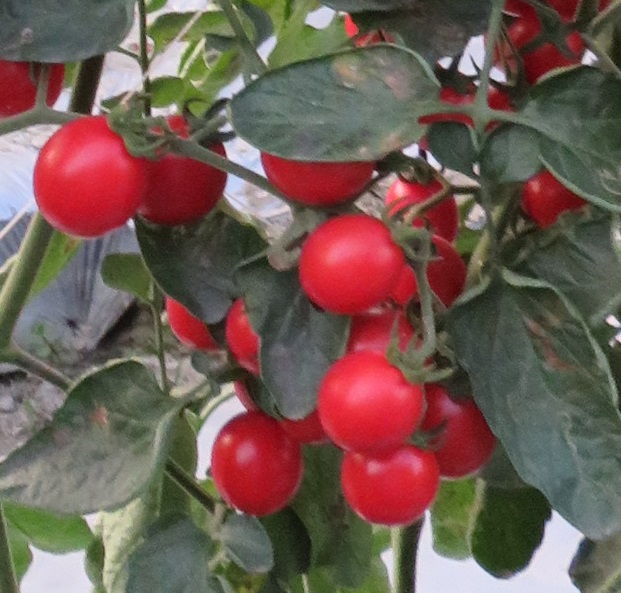red: (25, 112, 152, 242), (315, 342, 436, 458), (291, 209, 407, 314), (203, 412, 308, 523), (143, 117, 232, 230), (335, 442, 445, 531), (419, 383, 503, 481), (257, 147, 382, 208), (383, 168, 462, 245), (1, 55, 72, 115)
